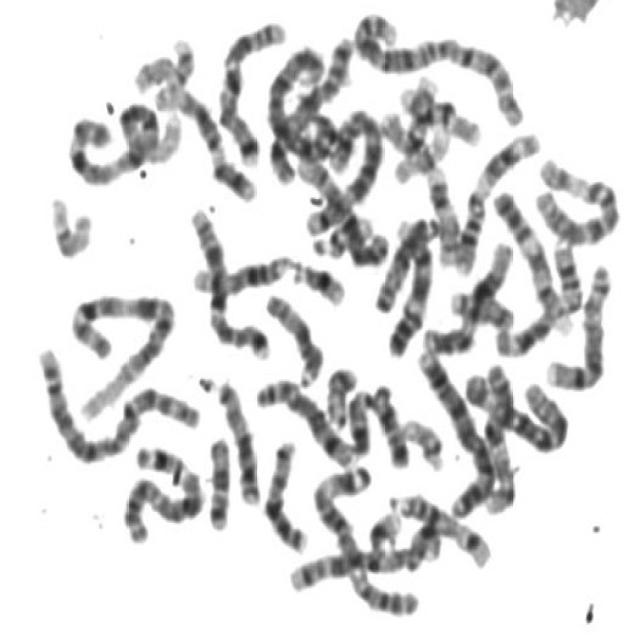A1: (65, 280, 179, 422), (61, 91, 185, 188)
A2: (346, 3, 528, 127), (30, 336, 200, 466)
A3: (307, 458, 423, 620), (116, 435, 207, 547)
B4: (262, 29, 369, 187), (411, 339, 498, 520)
B5: (283, 516, 446, 594), (298, 99, 386, 238)
C10: (292, 148, 392, 270), (476, 356, 520, 517)
C11: (449, 120, 546, 276), (489, 232, 584, 360)
C12: (149, 73, 261, 205), (417, 232, 517, 356)
C6: (458, 359, 574, 456), (529, 148, 624, 248)
C7: (184, 197, 274, 364), (211, 10, 290, 166)
C8: (249, 368, 358, 468), (540, 254, 616, 392)
C9: (488, 182, 578, 333), (380, 208, 438, 358)
D13: (253, 429, 311, 563), (210, 370, 263, 511)
D14: (383, 484, 495, 571), (186, 245, 292, 296)
D15: (370, 208, 442, 316), (258, 282, 328, 389)
E16: (392, 76, 484, 148), (342, 387, 388, 453)
E17: (401, 86, 483, 154), (150, 37, 195, 110)
E18: (366, 375, 412, 470), (201, 427, 234, 532)
F19: (389, 117, 453, 185), (42, 185, 92, 261)
F20: (319, 356, 361, 429), (130, 52, 180, 90)
G21: (288, 251, 348, 307), (362, 501, 405, 554)
G22: (396, 407, 449, 472), (305, 210, 375, 259)
